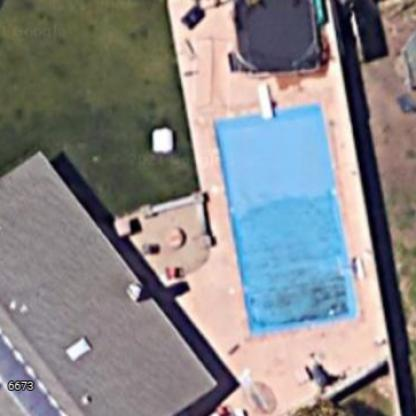poolww: (206, 92, 374, 342)
